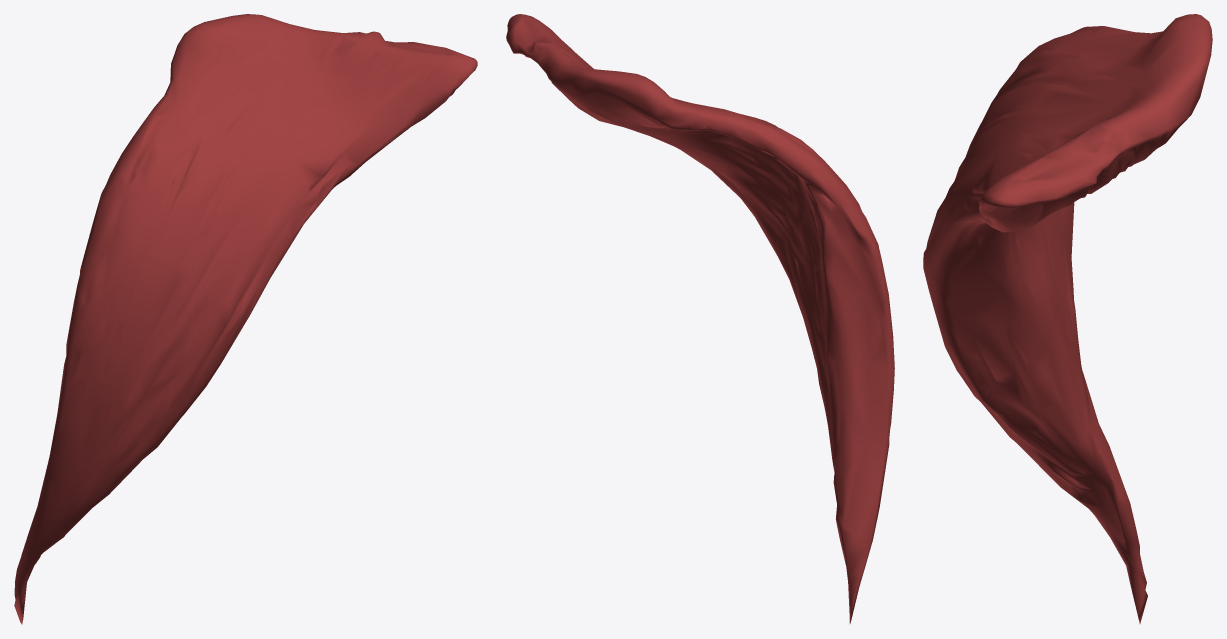
File: clavicular-part-of-deltoid-muscle-r.glb
3 views of the same model, side by side, from view 1: azimuth 30°, elevation 25°; view 2: azimuth 150°, elevation 25°; view 3: azimuth 270°, elevation 25° (orthographic). The views are drawn at different scales.
Visible parts, largest first — view 1: Clavicular part of deltoid muscle.r; view 2: Clavicular part of deltoid muscle.r; view 3: Clavicular part of deltoid muscle.r.
Part boxes in pixels (x1,y1,x2,y2): Clavicular part of deltoid muscle.r: [14, 14, 477, 624]; Clavicular part of deltoid muscle.r: [506, 14, 894, 624]; Clavicular part of deltoid muscle.r: [923, 14, 1212, 623].
Size of the model in its own units: 0.126 by 0.1555 by 0.0548.
